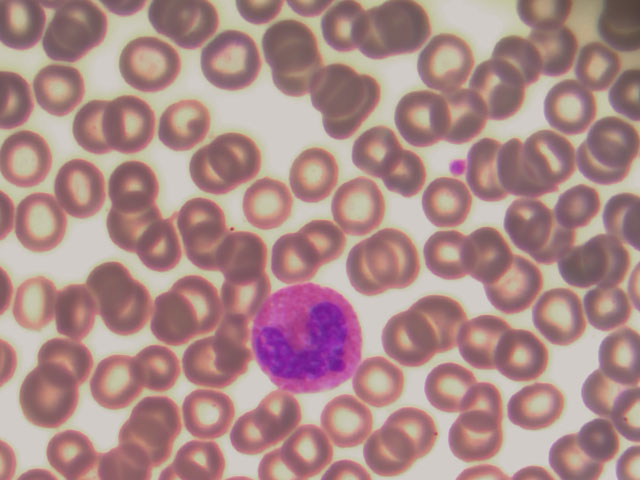Platelets: (446, 155, 468, 177)
RBC: (104, 94, 163, 154), (70, 96, 129, 156), (31, 62, 90, 122), (54, 159, 113, 219), (9, 191, 68, 251), (5, 271, 64, 331), (51, 282, 110, 342), (81, 258, 140, 318), (104, 280, 163, 340), (132, 291, 191, 351), (168, 275, 227, 335), (135, 220, 194, 280), (106, 191, 165, 251), (103, 156, 162, 216), (173, 191, 232, 251), (198, 223, 257, 283), (183, 337, 242, 397), (218, 271, 277, 331), (81, 349, 140, 409), (134, 340, 193, 400), (36, 326, 95, 386), (24, 361, 83, 421), (44, 420, 103, 480), (103, 420, 162, 480), (128, 391, 187, 451), (172, 381, 231, 441), (169, 420, 228, 480), (223, 404, 282, 464), (243, 387, 302, 447), (276, 420, 335, 480), (316, 392, 375, 452), (348, 352, 407, 412), (381, 311, 440, 371), (413, 294, 472, 354), (453, 308, 512, 368), (490, 324, 549, 384), (509, 379, 568, 439), (458, 371, 517, 431), (440, 409, 499, 469), (424, 360, 483, 420), (386, 402, 445, 462), (359, 417, 418, 477), (552, 420, 611, 480), (578, 367, 637, 427), (581, 322, 640, 382), (529, 288, 588, 348), (480, 257, 539, 317), (462, 223, 521, 283), (420, 223, 479, 283), (372, 224, 431, 284), (345, 239, 404, 299), (301, 217, 360, 277), (265, 225, 324, 285), (239, 180, 298, 240), (211, 129, 270, 189), (186, 142, 245, 202), (152, 95, 211, 155), (325, 175, 384, 235), (291, 144, 350, 204), (349, 120, 408, 180), (382, 142, 441, 202), (415, 175, 474, 235), (499, 192, 558, 252), (558, 231, 617, 291), (557, 175, 616, 235), (526, 133, 585, 193), (488, 135, 547, 195), (471, 132, 530, 192), (442, 91, 501, 151), (399, 91, 458, 151), (307, 62, 366, 122), (260, 18, 319, 78), (199, 30, 258, 90), (121, 38, 180, 98), (42, 10, 101, 70), (319, 1, 378, 61), (417, 31, 476, 91), (475, 55, 534, 115), (492, 33, 551, 93), (523, 20, 582, 80), (573, 39, 632, 99), (547, 77, 606, 137), (581, 114, 640, 174), (378, 1, 437, 60), (1, 126, 59, 186)
WBC: (249, 283, 361, 397)
